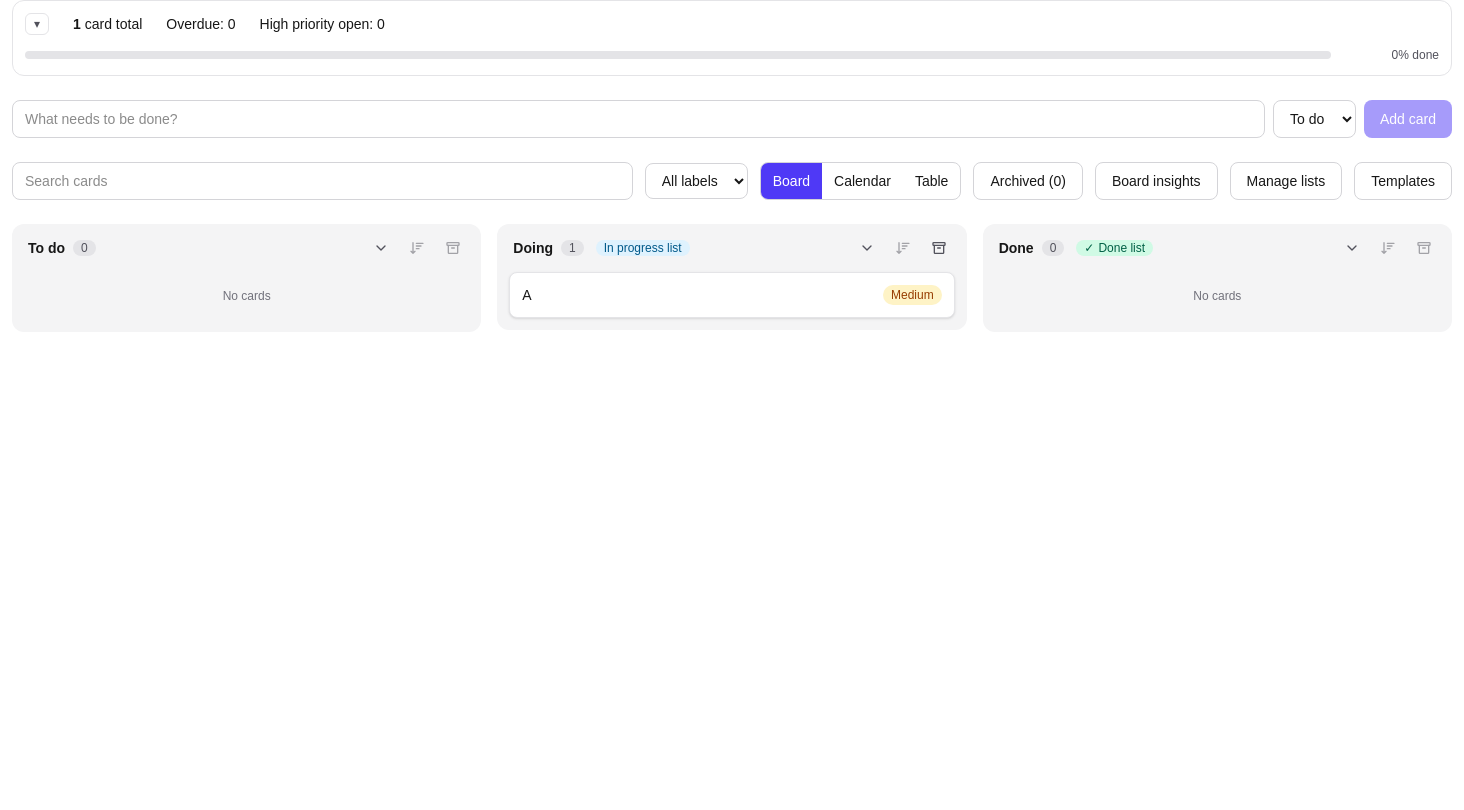
Scenario: column header icon buttons › archive is an icon-only button, disabled when empty and shows the undo toast
Check: the button named "Archive all cards in To do" is disabled, box left=437, top=236, right=469, bottom=260
Click the button named "Archive all cards in Doing" at (939, 248), box left=923, top=236, right=955, bottom=260
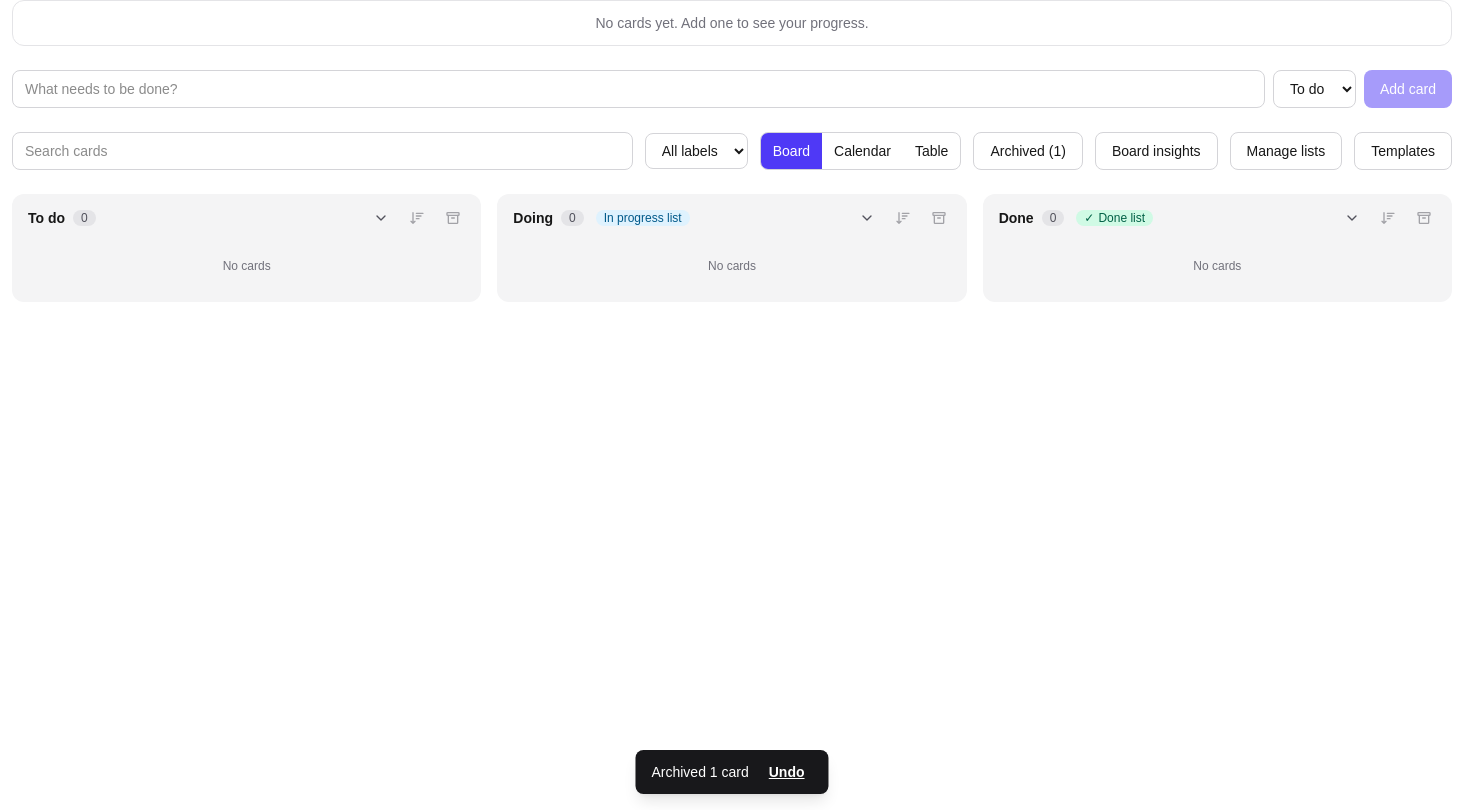
Check: the message shows "Archived 1 card", box left=652, top=764, right=749, bottom=780
Check: the button "Undo" is shown, box left=761, top=758, right=813, bottom=786
